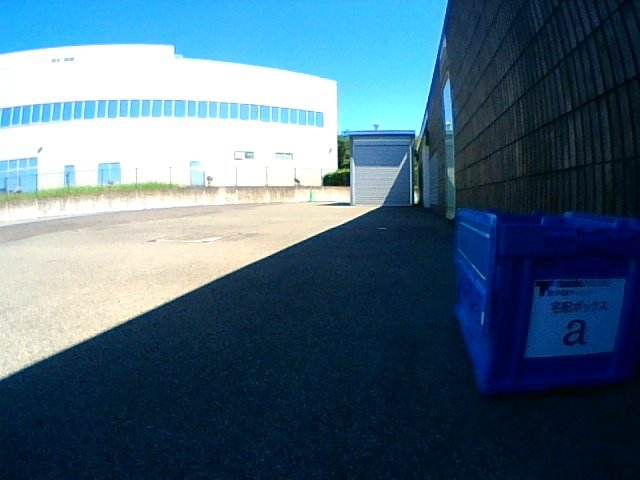blue_box: (456, 208, 640, 392)
tag_a: (540, 285, 610, 350)
